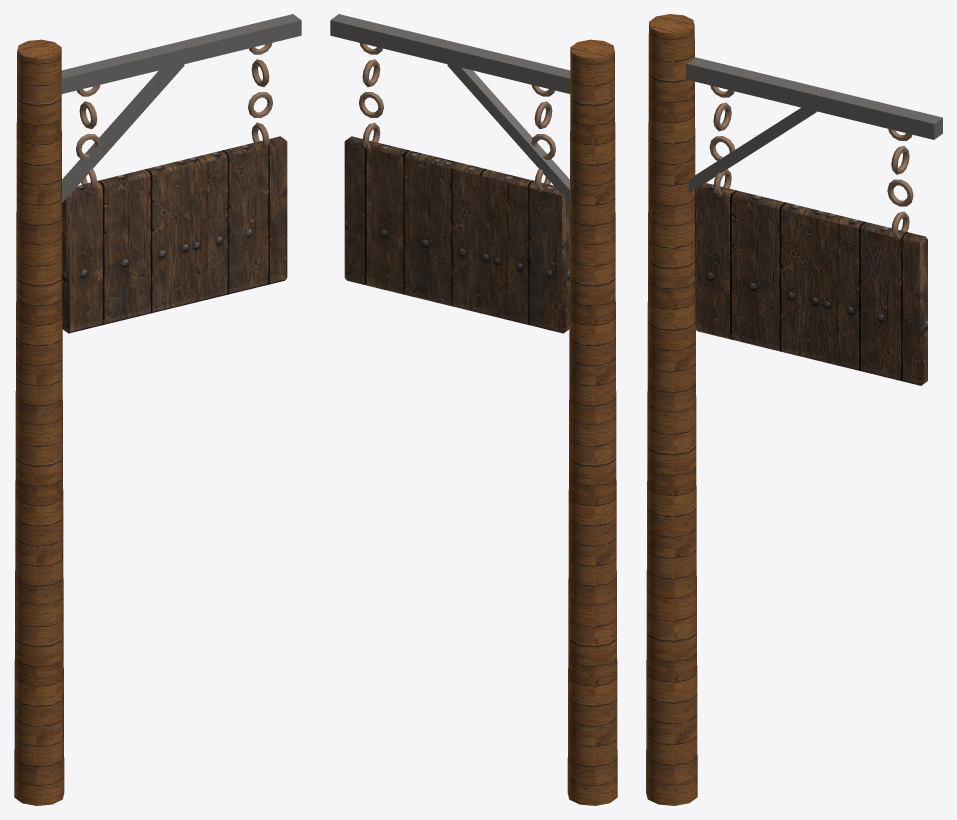
The model's file is hanging-sign-post-v01.glb.
3 renders of one model, left to right at view 1: azimuth 30°, elevation 25°; view 2: azimuth 150°, elevation 25°; view 3: azimuth 330°, elevation 25°, orthographic. The views are drawn at different scales.
Parts seen in each view (by area): view 1: hanging-sign-post; view 2: hanging-sign-post; view 3: hanging-sign-post.
Part boxes in pixels (x1,y1,x2,y2): hanging-sign-post: (14, 14, 301, 805); hanging-sign-post: (330, 14, 617, 805); hanging-sign-post: (646, 14, 942, 805).
Bounding box in the file's own units: 1.14 × 2.9 × 0.18.
4 materials, 2 textured.
